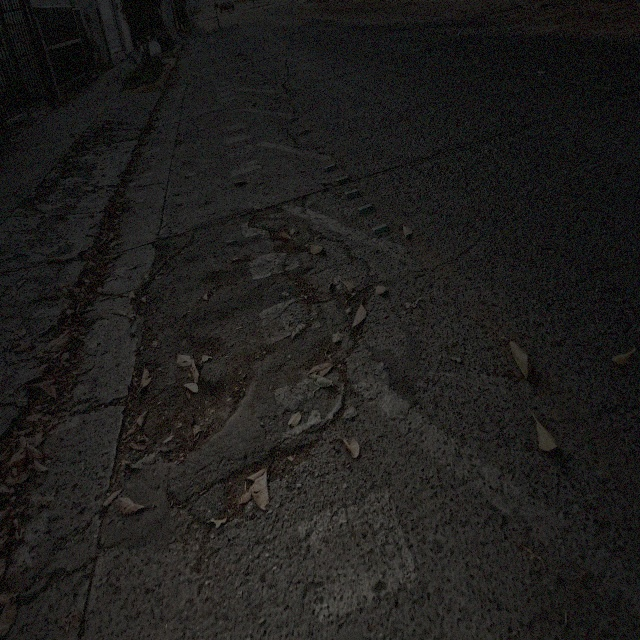pothole: (102, 359, 262, 466), (218, 432, 320, 509), (340, 280, 375, 352), (249, 214, 306, 251), (278, 267, 324, 303)
